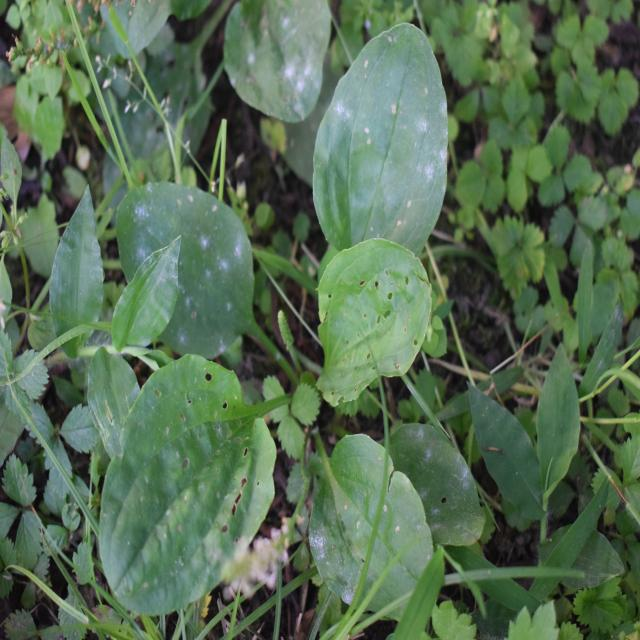plantain: (120, 35, 459, 588)
